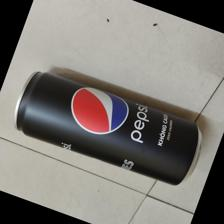Pepsi: (14, 70, 206, 189)
